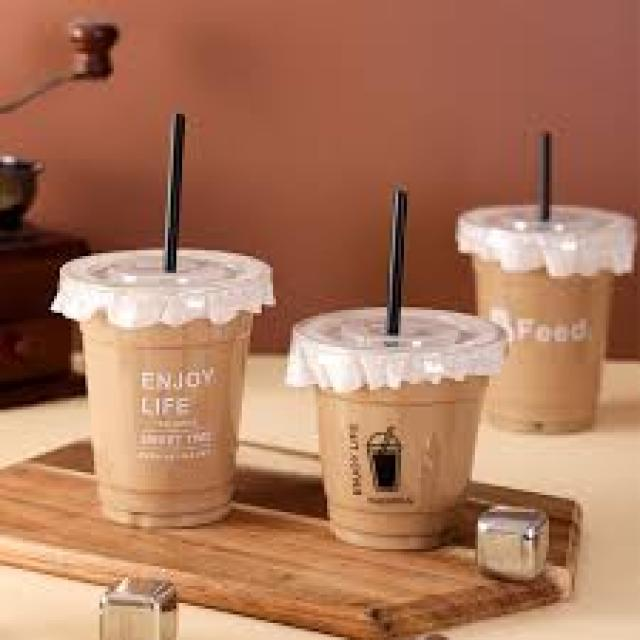bottle: (52, 250, 272, 526), (286, 308, 505, 548), (456, 205, 635, 432)
